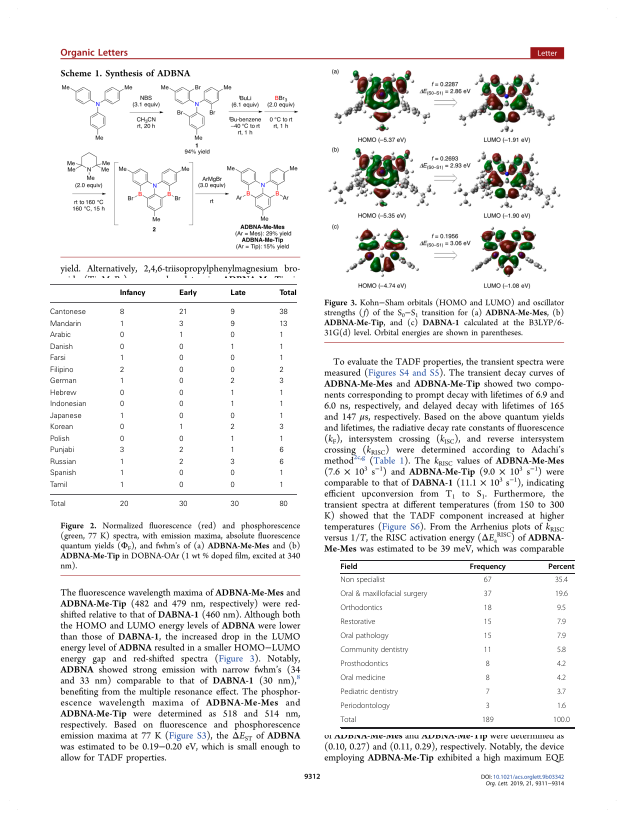borderless: (48, 283, 298, 509), (339, 559, 574, 727)
cell: (340, 590, 428, 600), (340, 646, 409, 656), (340, 688, 399, 698), (340, 702, 391, 712), (340, 632, 389, 642), (340, 660, 389, 670), (340, 576, 386, 586), (340, 674, 386, 684), (340, 604, 383, 614), (340, 618, 376, 628), (469, 563, 507, 572), (49, 400, 87, 409), (49, 308, 86, 317), (49, 320, 82, 329), (49, 412, 82, 421), (547, 563, 575, 572), (118, 289, 146, 298), (49, 377, 77, 386), (49, 389, 77, 398), (49, 458, 77, 467), (49, 469, 77, 478), (49, 446, 75, 455), (49, 366, 74, 375), (49, 423, 74, 432), (49, 343, 73, 352), (49, 331, 71, 340), (552, 716, 571, 726), (49, 435, 70, 444), (178, 289, 197, 298), (278, 289, 297, 298), (49, 481, 68, 490), (340, 716, 357, 726), (340, 563, 358, 572), (229, 289, 246, 298), (49, 354, 66, 363), (49, 500, 66, 509), (554, 576, 569, 586), (554, 590, 569, 600), (481, 716, 494, 726), (556, 604, 567, 614), (556, 618, 567, 628), (556, 632, 567, 642), (556, 646, 567, 656), (556, 660, 567, 670), (556, 674, 567, 684), (556, 688, 567, 698), (556, 702, 567, 712), (118, 500, 129, 509), (483, 576, 492, 586), (483, 590, 492, 600), (483, 604, 492, 614), (483, 618, 492, 628), (483, 632, 492, 642), (483, 646, 492, 656), (178, 308, 188, 317), (278, 308, 288, 317), (278, 320, 288, 329), (178, 500, 188, 509), (229, 500, 239, 509), (278, 500, 288, 509), (118, 308, 125, 317), (118, 320, 125, 329), (118, 331, 125, 340), (118, 343, 125, 352), (118, 354, 125, 363), (118, 366, 125, 375), (118, 377, 125, 386), (118, 389, 125, 398), (118, 400, 125, 409), (118, 412, 125, 421), (118, 423, 125, 432), (118, 435, 125, 444), (118, 446, 125, 455), (118, 458, 125, 467), (118, 469, 125, 478), (118, 481, 125, 490), (485, 660, 491, 670), (485, 674, 491, 684), (485, 688, 491, 698), (485, 702, 491, 712), (229, 308, 235, 317), (178, 320, 184, 329), (229, 320, 235, 329), (178, 331, 184, 340), (229, 331, 235, 340), (278, 331, 284, 340), (178, 343, 184, 352), (229, 343, 235, 352), (278, 343, 284, 352), (178, 354, 184, 363), (229, 354, 235, 363), (278, 354, 284, 363), (178, 366, 184, 375), (229, 366, 235, 375), (278, 366, 284, 375), (178, 377, 184, 386), (229, 377, 235, 386), (278, 377, 284, 386), (178, 389, 184, 398), (229, 389, 235, 398), (278, 389, 284, 398), (178, 400, 184, 409), (229, 400, 235, 409), (278, 400, 284, 409), (178, 412, 184, 421), (229, 412, 235, 421), (278, 412, 284, 421), (178, 423, 184, 432), (229, 423, 235, 432), (278, 423, 284, 432), (178, 435, 184, 444), (229, 435, 235, 444), (278, 435, 284, 444), (178, 446, 184, 455), (229, 446, 235, 455), (278, 446, 284, 455), (178, 458, 184, 467), (229, 458, 235, 467), (278, 458, 284, 467), (178, 469, 184, 478), (229, 469, 235, 478), (278, 469, 284, 478), (178, 481, 184, 490), (229, 481, 235, 490), (278, 481, 284, 490)
